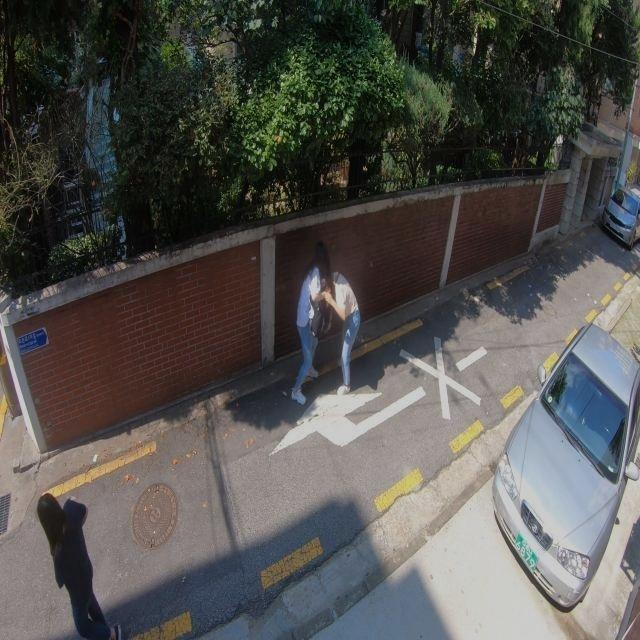fight: (285, 266, 362, 407)
non-fight: (33, 487, 121, 639)
